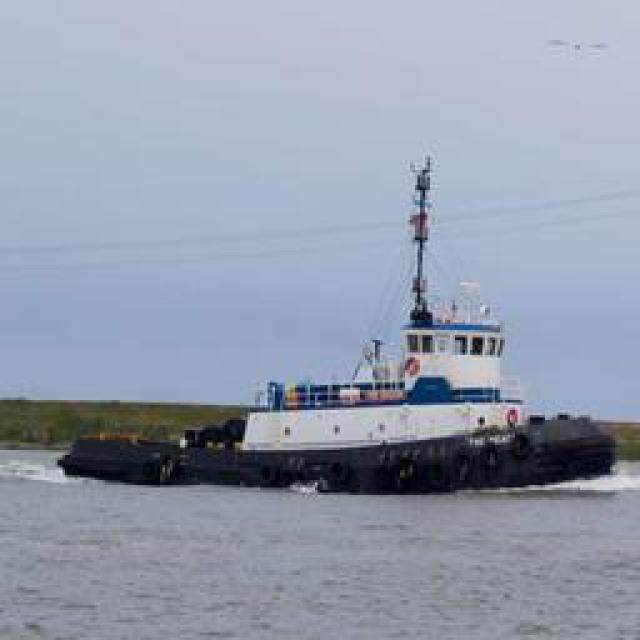Ship: (146, 142, 609, 492)
